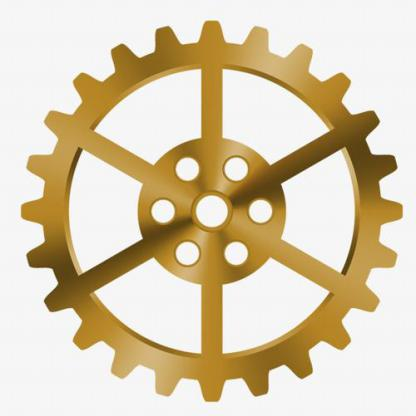FOD: (19, 16, 404, 410)
